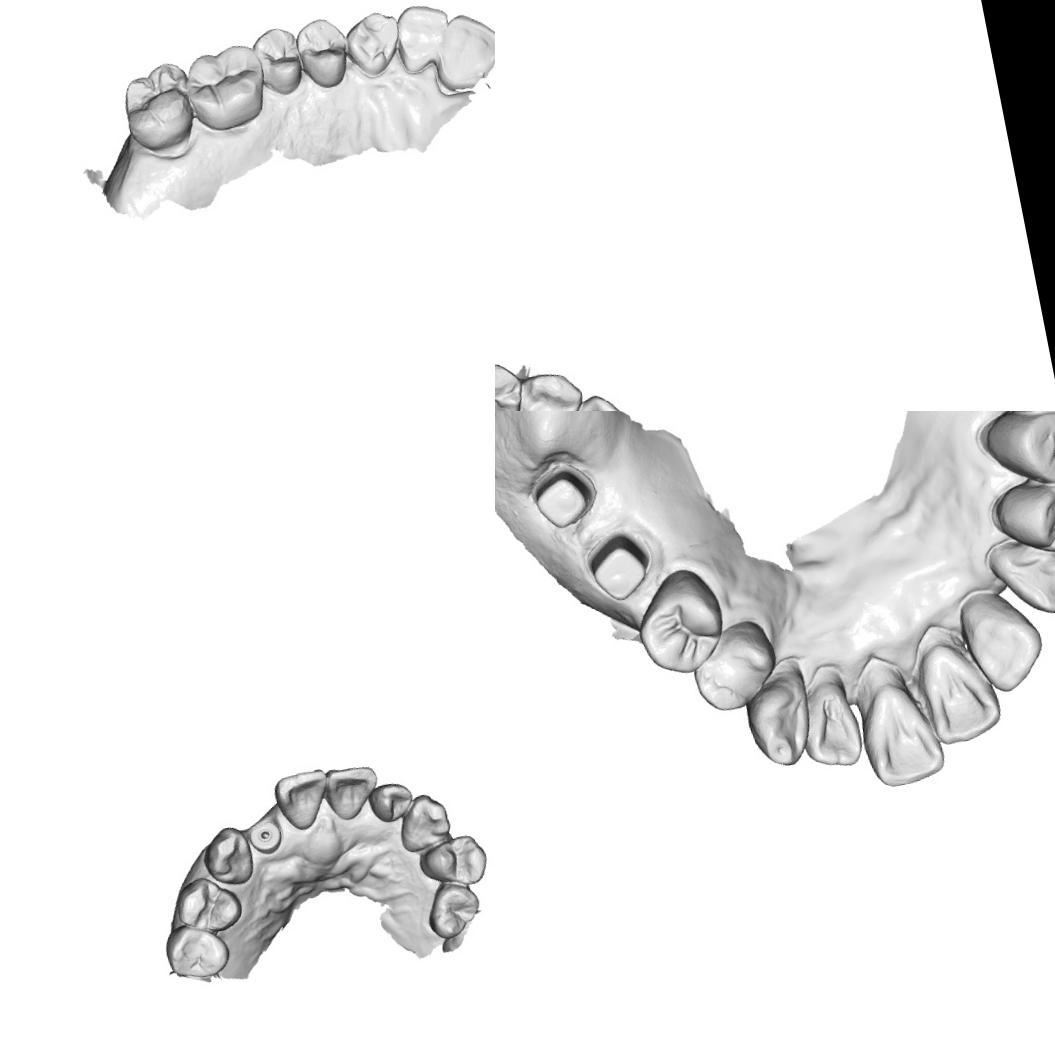abutment: (580, 521, 656, 608), (524, 454, 604, 534)
canine: (739, 672, 815, 772), (986, 532, 1055, 626), (337, 6, 407, 81), (196, 821, 258, 892), (392, 788, 454, 856), (511, 364, 589, 411)
implant: (246, 816, 285, 858)
incisor: (856, 675, 948, 790), (916, 635, 1008, 747), (958, 589, 1050, 696), (792, 676, 866, 772), (423, 5, 495, 96), (389, 0, 457, 75), (269, 765, 336, 835), (319, 760, 384, 824), (364, 778, 416, 826), (569, 386, 634, 411)
molar: (114, 55, 203, 162), (179, 37, 274, 137)
premolar: (632, 570, 730, 680), (685, 622, 786, 718), (993, 470, 1055, 561), (168, 869, 246, 939), (986, 411, 1055, 490), (291, 12, 356, 94), (158, 916, 232, 985), (413, 829, 492, 892), (248, 20, 309, 101), (420, 878, 486, 944), (495, 355, 528, 411)
